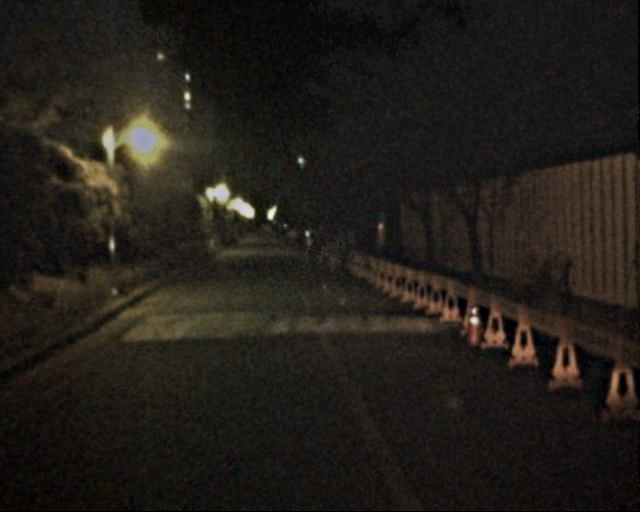person: (333, 235, 351, 280), (322, 234, 340, 278), (307, 234, 324, 275), (292, 234, 305, 266)
